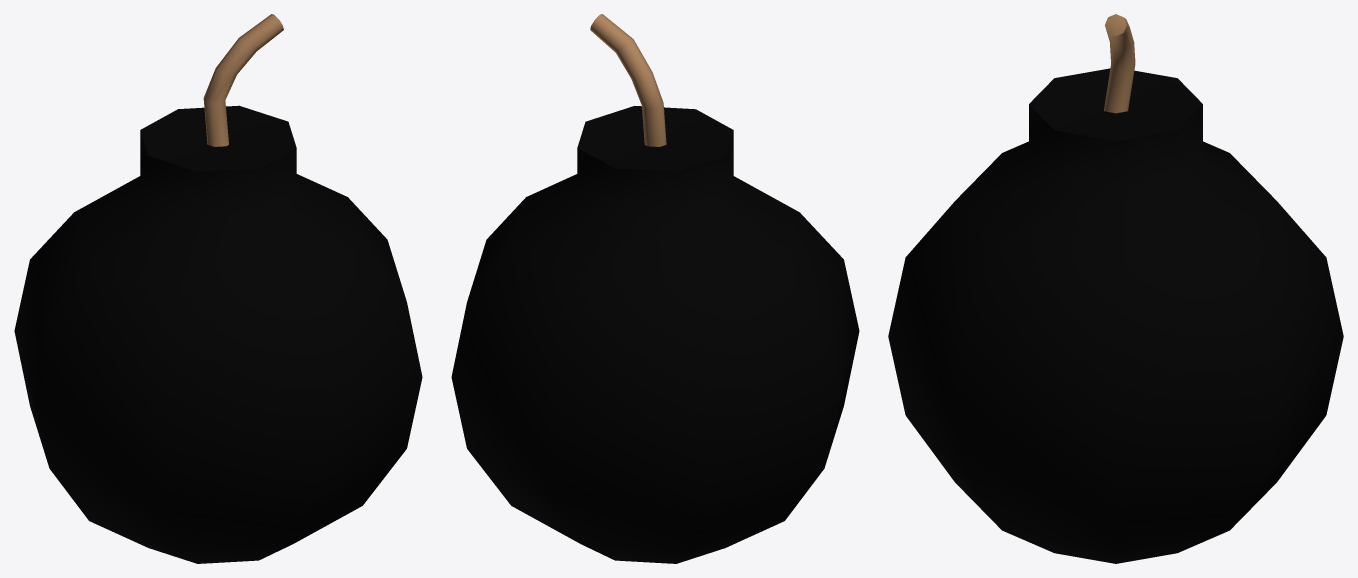
File: Bomb.fbx
3 views of the same model, side by side, from view 1: azimuth 30°, elevation 25°; view 2: azimuth 150°, elevation 25°; view 3: azimuth 270°, elevation 25° (orthographic). The views are drawn at different scales.
Visible parts, largest first — view 1: pSphere1; view 2: pSphere1; view 3: pSphere1.
Part boxes in pixels (box(x1,y1,x2,y2)): pSphere1: box(14, 14, 422, 563); pSphere1: box(451, 14, 859, 563); pSphere1: box(888, 14, 1343, 563).
Bounding box in the file's own units: 4.35 × 5.88 × 4.35.
